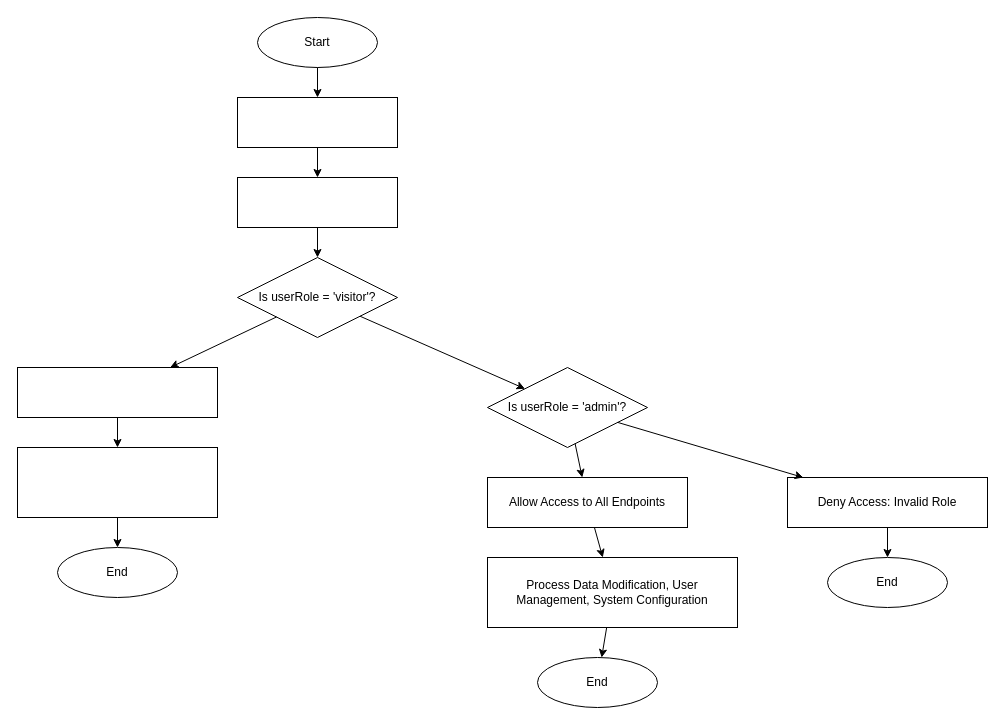
Image size: 1005x725. Some labels were removed from this diagram. Here are the shapes that lost their labels. From the top down, the centre of each, then its label:
point (317, 122): Validate Request Structure
point (317, 202): Validate Request Parameters
point (117, 392): Allow Access to Public Endpoints
point (117, 482): Return Data for Search, Visualization, Statistics
